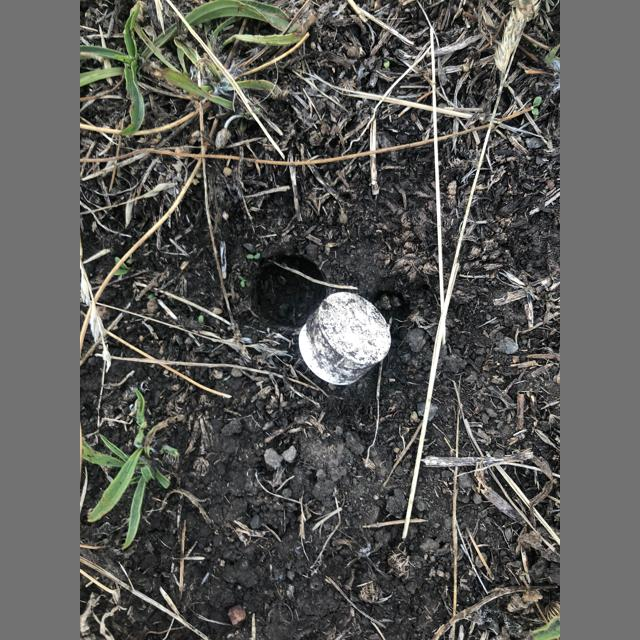litter: (299, 292, 391, 385)
